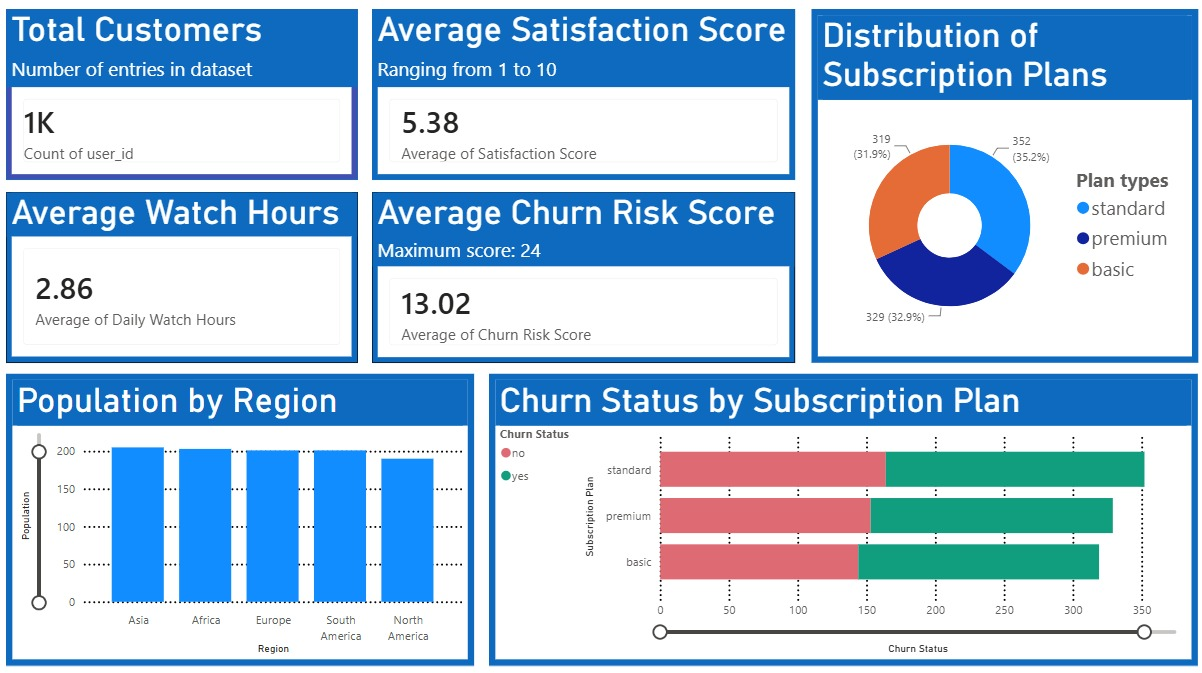

Layout of this report page (visuals, bound fields, positions):
{"tool":"powerbi","page":{"name":"Executive Summary","canvas":[1280,720],"ordinal":0},"visuals":[{"type":"cardVisual","title":"Total Customers","fields":{"Data":["Count(complete_sql_dataset 1.user_id)"]},"box":[15.7,15.7,369.3,179.4],"z":0},{"type":"cardVisual","title":"Average Satisfaction Score","fields":{"Data":["Avg(complete_sql_dataset 1.Satisfaction Score)"]},"box":[400.7,15.7,444.2,179.4],"z":1000},{"type":"cardVisual","title":"Average Watch Hours","fields":{"Data":["Avg(complete_sql_dataset 1.Daily Watch Hours)"]},"box":[15.7,207.3,369.3,179.4],"z":2000},{"type":"cardVisual","title":"Average Churn Risk Score","fields":{"Data":["Avg(complete_sql_dataset 1.Churn Risk Score)"]},"box":[400.7,207.3,444.2,179.4],"z":3000},{"type":"donutChart","title":"Distribution of Subscription Plans","fields":{"Category":["complete_sql_dataset 1.Subscription Plan"],"Y":["CountNonNull(complete_sql_dataset 1.Subscription Plan)"]},"box":[860.5,15.7,405.9,371],"z":4000},{"type":"clusteredColumnChart","title":"Population by Region","fields":{"Category":["complete_sql_dataset 1.Region"],"Y":["CountNonNull(complete_sql_dataset 1.Region)"]},"box":[15.7,398.9,491.2,306.6],"z":5000},{"type":"barChart","title":"Churn Status by Subscription Plan","fields":{"Category":["complete_sql_dataset 1.Subscription Plan"],"Series":["complete_sql_dataset 1.Churn Status"],"Y":["CountNonNull(complete_sql_dataset 1.Churn Status)"]},"box":[522.6,398.9,743.8,306.6],"z":6000}]}

Visuals, with their boxes in screenshot pixels (x1, y1, x2, y2), scaled from the page's 1280x720 canvas onto the 1202x673 screenshot:
"Total Customers" cardVisual: BBox(15, 15, 362, 182)
"Average Satisfaction Score" cardVisual: BBox(376, 15, 793, 182)
"Average Watch Hours" cardVisual: BBox(15, 194, 362, 361)
"Average Churn Risk Score" cardVisual: BBox(376, 194, 793, 361)
"Distribution of Subscription Plans" donutChart: BBox(808, 15, 1189, 361)
"Population by Region" clusteredColumnChart: BBox(15, 373, 476, 659)
"Churn Status by Subscription Plan" barChart: BBox(491, 373, 1189, 659)
